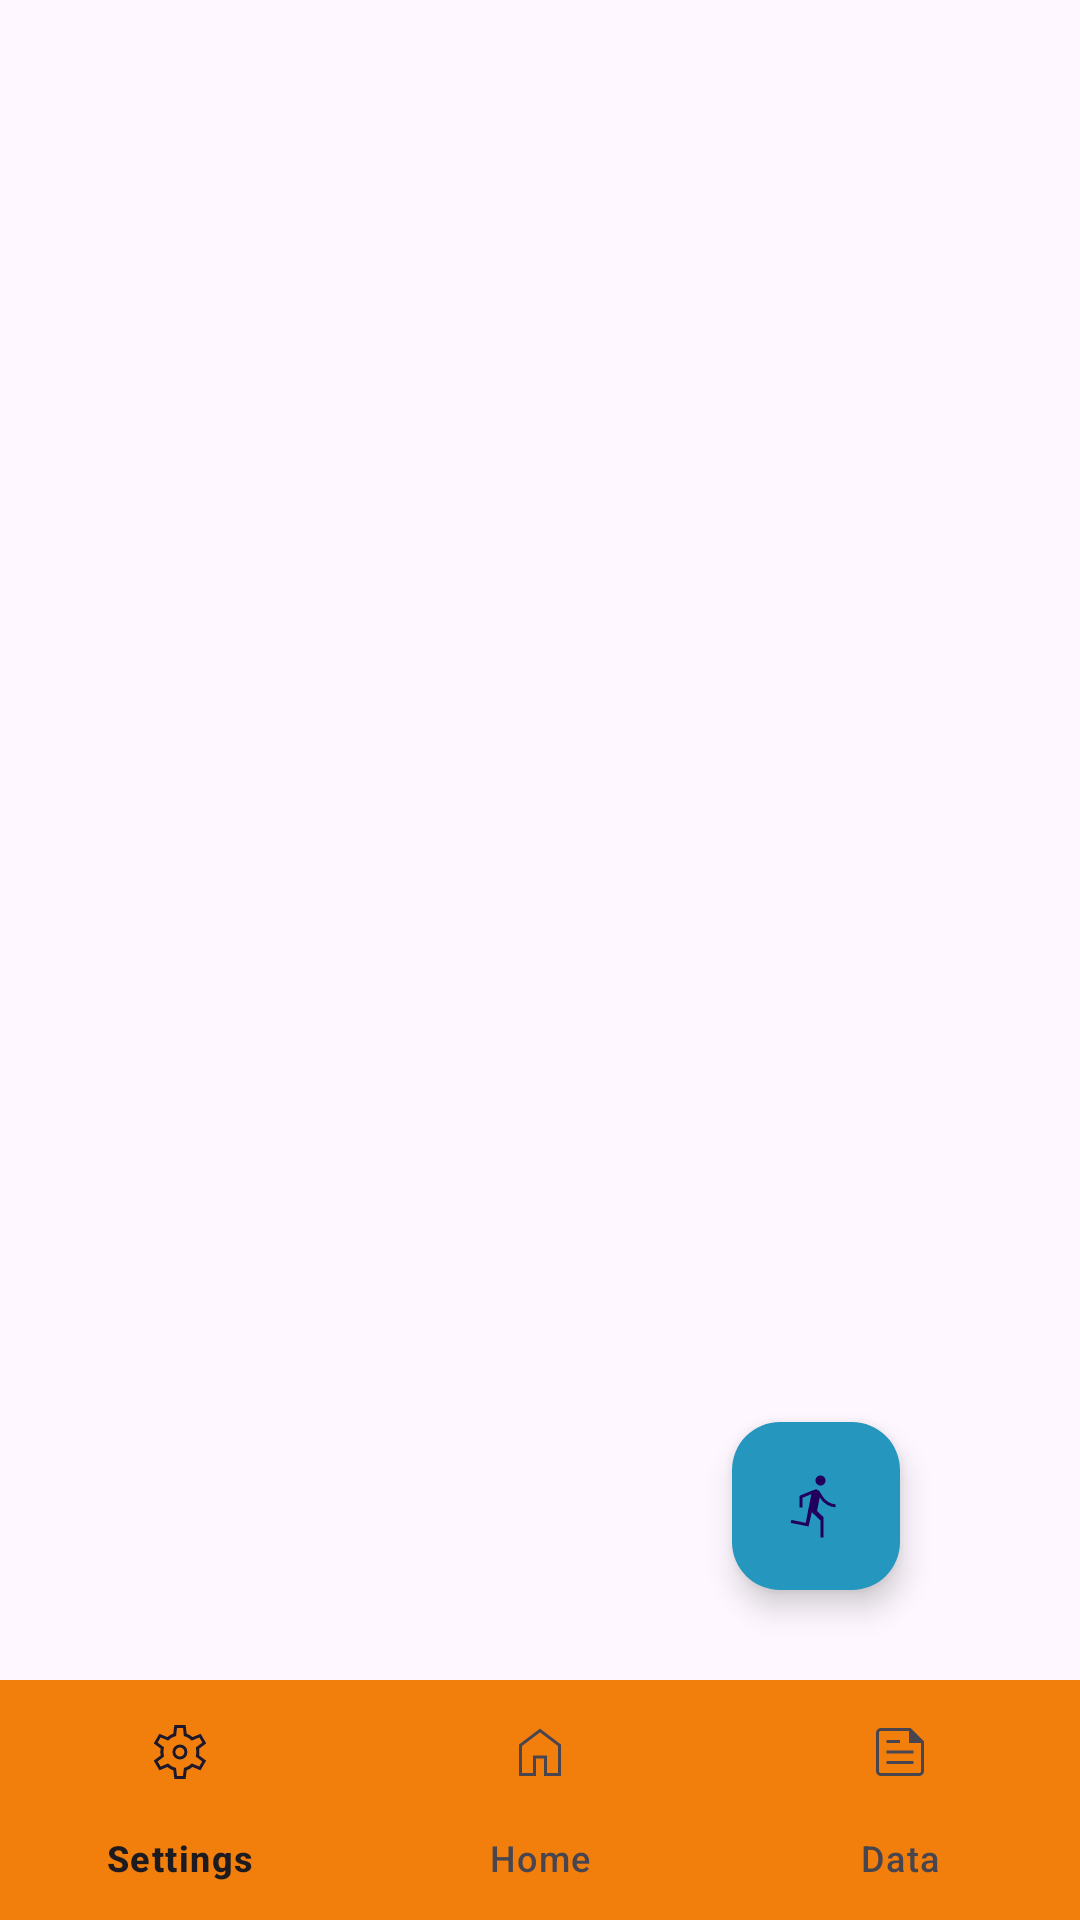

Icons on this 1080px×1920px Android screen, each with the point to tap as (x,y):
Add a Run: (816,1506)
